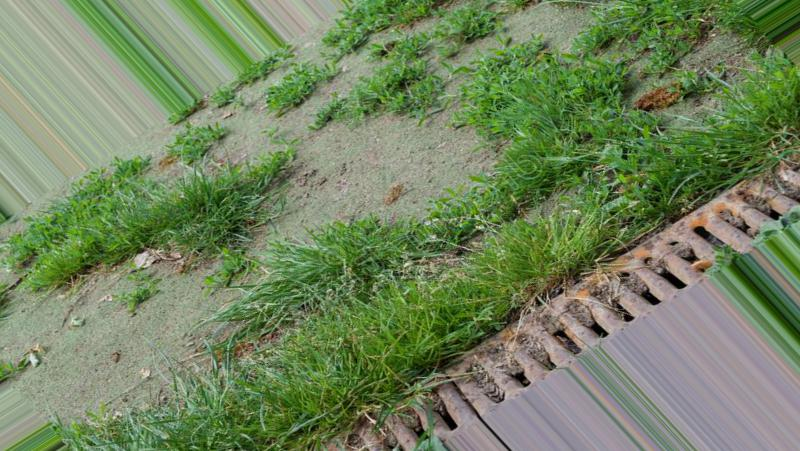patch: (56, 302, 200, 396), (299, 129, 477, 205), (214, 106, 285, 153)
